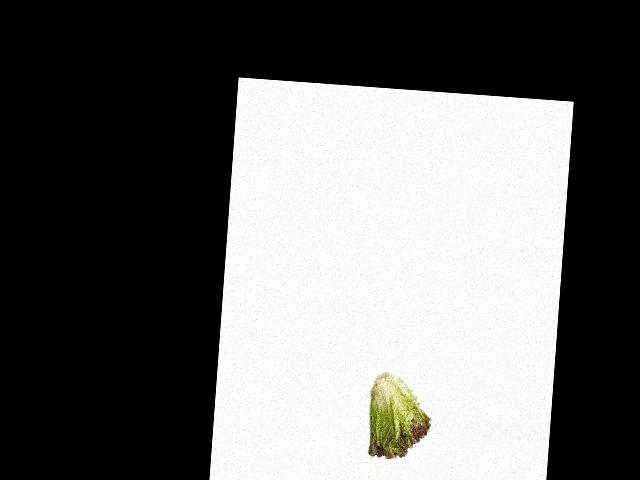lettuce: (367, 372, 433, 463)
